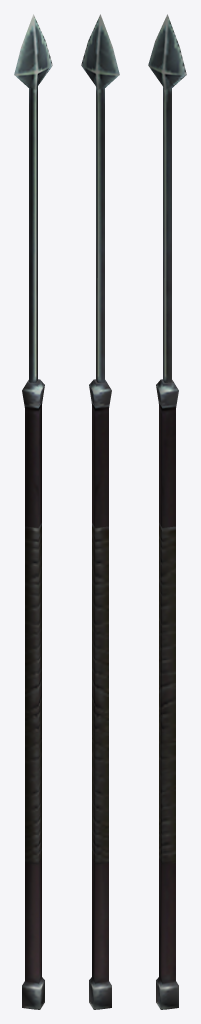
Rendered from Polearm05.FBX.
The picture shows the model from 3 angles, left to right: view 1: azimuth 30°, elevation 25°; view 2: azimuth 150°, elevation 25°; view 3: azimuth 330°, elevation 25°; orthographic projection.
Parts seen in each view (by area): view 1: Polearm05; view 2: Polearm05; view 3: Polearm05.
Part boxes in pixels (<box>): Polearm05: <box>14,14,52,1009</box>; Polearm05: <box>81,14,119,1009</box>; Polearm05: <box>148,14,186,1009</box>.
Bounding box in the file's own units: 8.99 × 221 × 5.33.
